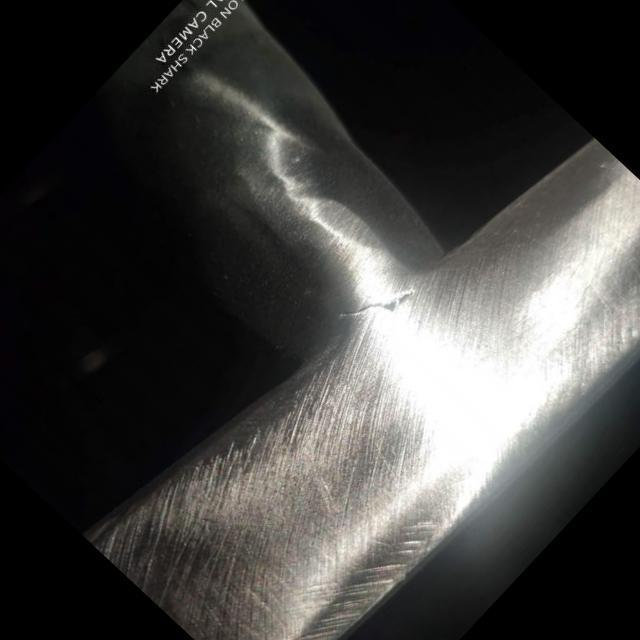defect: (335, 288, 415, 318)
